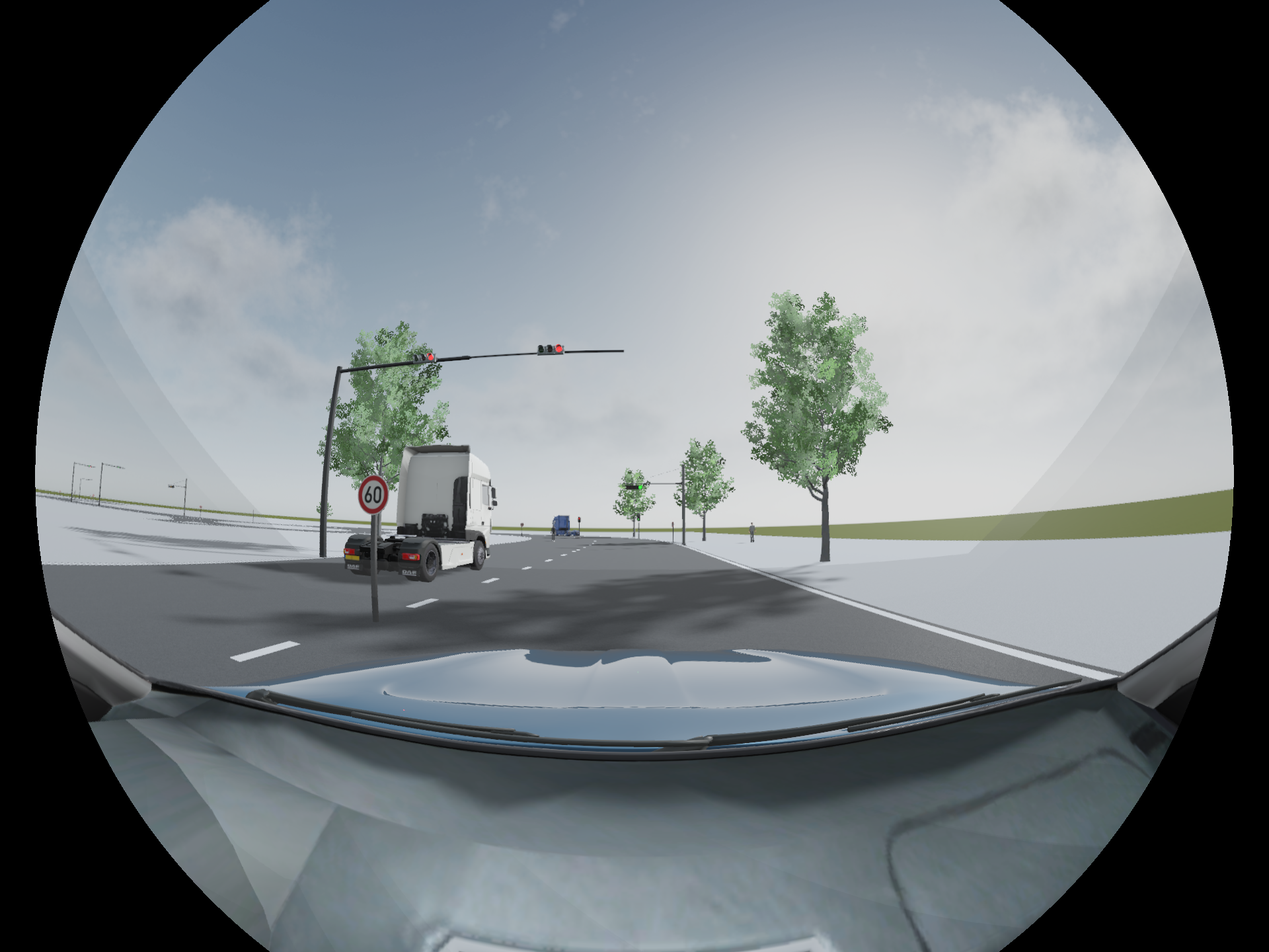Green Light: (627, 483, 643, 491)
Red Light: (538, 344, 565, 356), (411, 353, 436, 364)
Speed Limit 60: (358, 475, 388, 514)
